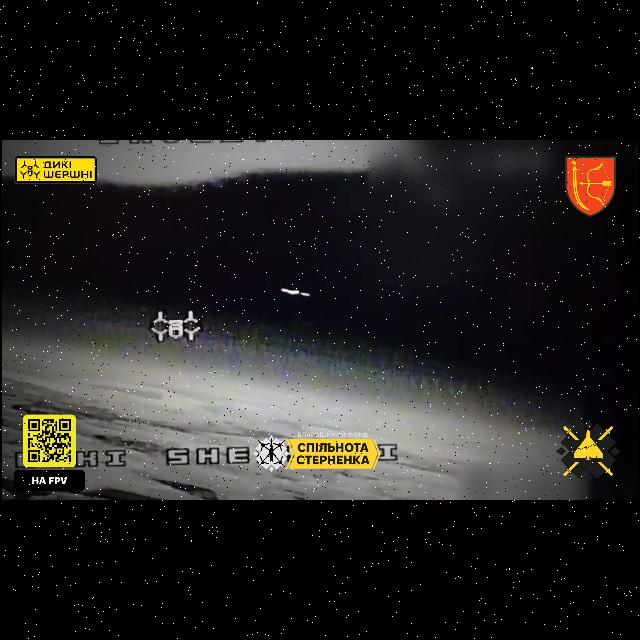Gerbera: (280, 288, 310, 296)
